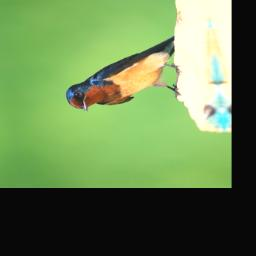Swallow: (57, 35, 189, 113)
